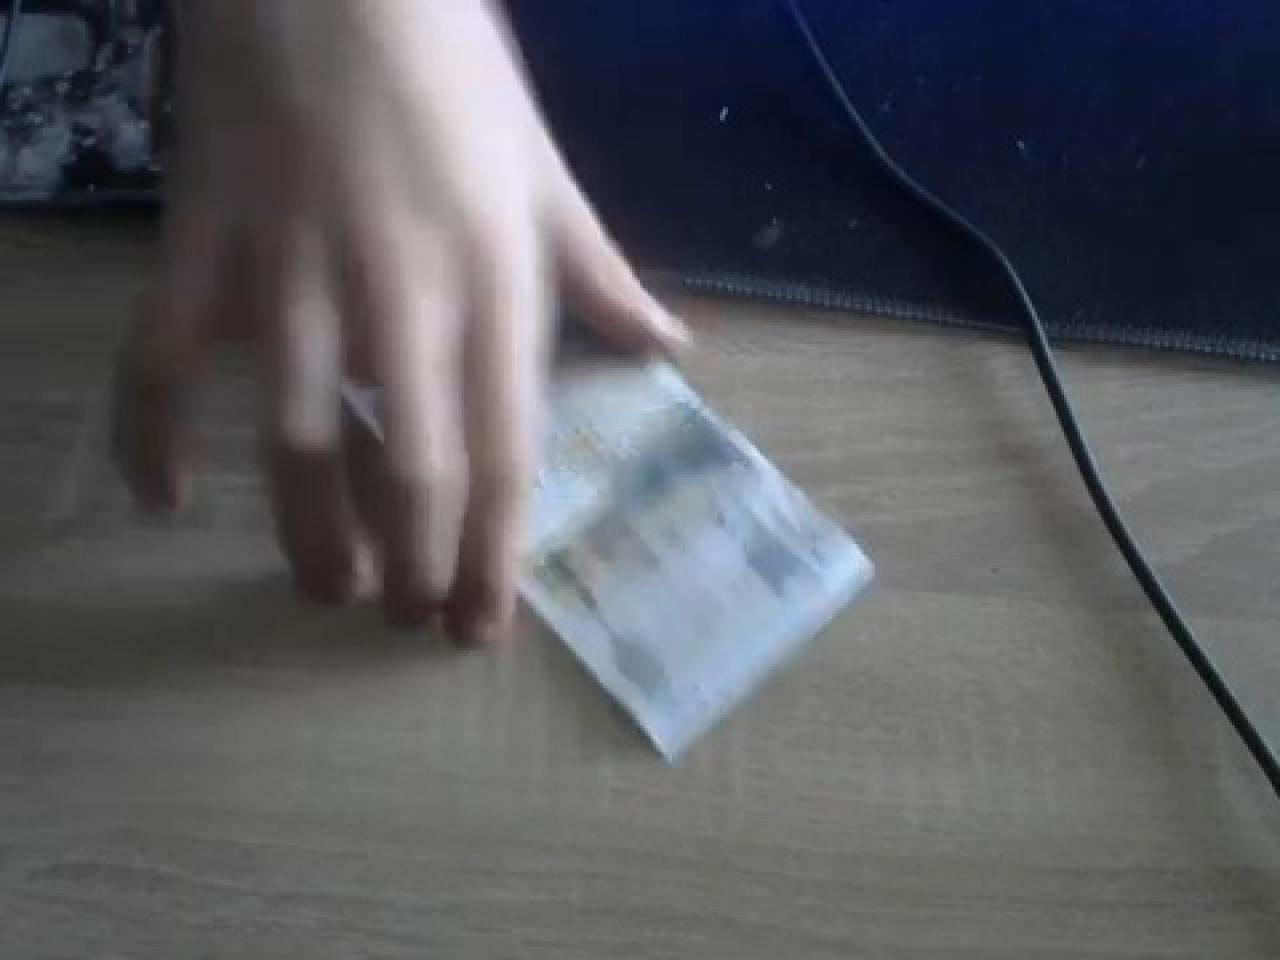20leva: (512, 323, 877, 765)
